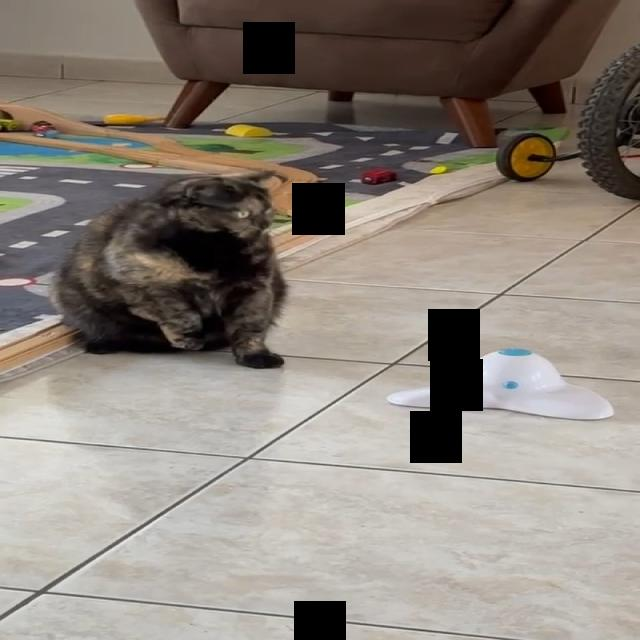authorized: (47, 168, 289, 369)
